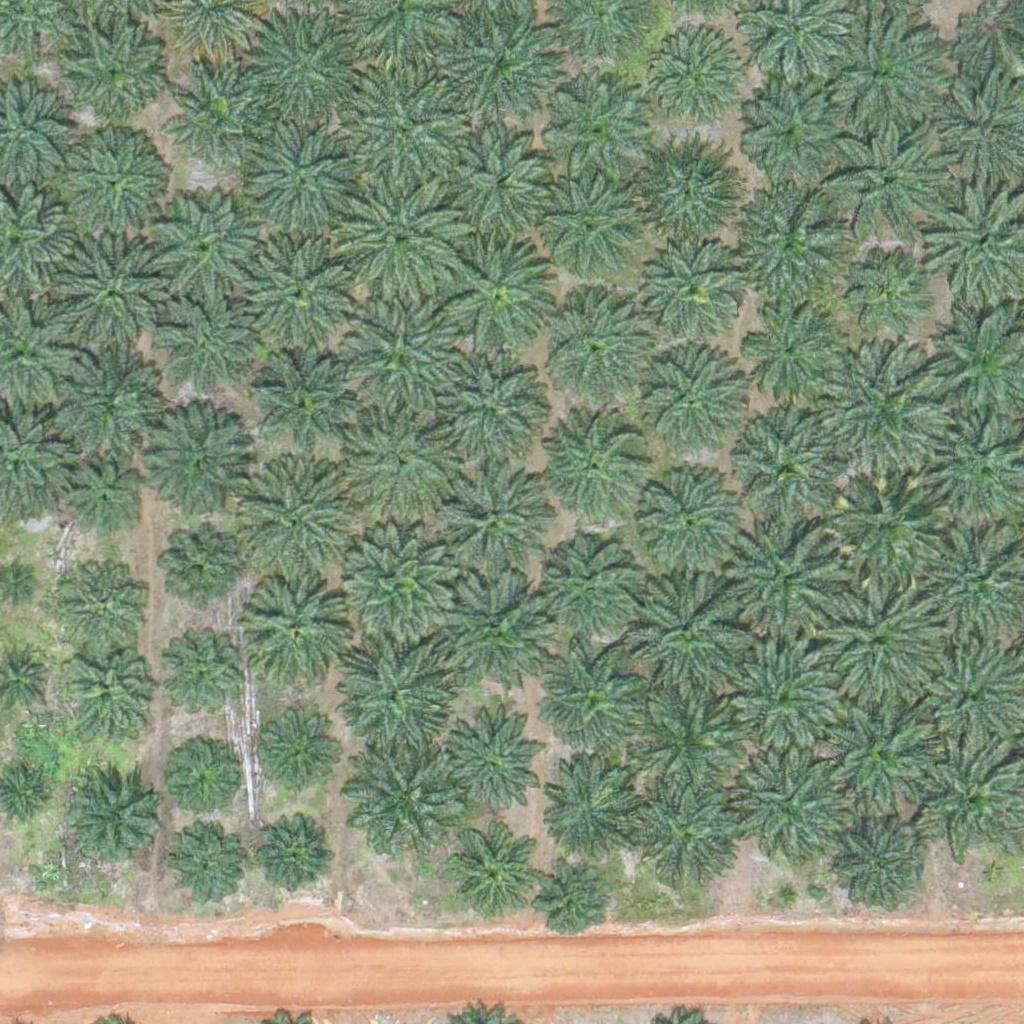Kelapa_Sawit: (822, 582, 947, 708), (821, 458, 946, 584), (821, 344, 946, 470), (724, 417, 849, 543), (815, 14, 940, 140), (825, 110, 950, 236), (343, 68, 468, 194), (337, 171, 462, 296), (907, 635, 1020, 748), (631, 784, 744, 897), (633, 681, 746, 794), (637, 569, 750, 682), (536, 290, 649, 403), (535, 635, 648, 748), (445, 240, 558, 353), (435, 345, 548, 458), (432, 463, 545, 576), (345, 737, 458, 850), (235, 569, 348, 682), (138, 409, 251, 522), (56, 237, 169, 350), (42, 338, 155, 451), (531, 167, 644, 280), (445, 126, 558, 239), (447, 7, 560, 120), (153, 189, 266, 302), (54, 14, 167, 127), (726, 181, 838, 295), (631, 132, 743, 246), (537, 68, 649, 182), (824, 706, 936, 819), (731, 522, 843, 635), (730, 637, 842, 750), (733, 752, 845, 865), (638, 453, 750, 566), (634, 340, 746, 453), (441, 567, 553, 680), (437, 713, 549, 826), (344, 294, 456, 407), (342, 403, 454, 516), (340, 522, 452, 635), (336, 637, 448, 750), (238, 459, 350, 572), (243, 9, 355, 122), (243, 120, 355, 233), (242, 232, 354, 345), (838, 807, 938, 908), (549, 409, 649, 510), (540, 533, 640, 634), (541, 755, 641, 856), (252, 356, 352, 457), (61, 768, 161, 869), (64, 134, 164, 235), (740, 298, 840, 398), (643, 239, 743, 339), (745, 79, 845, 179), (646, 30, 746, 130), (445, 825, 533, 913), (56, 559, 144, 647), (64, 653, 152, 741), (174, 71, 261, 160), (250, 706, 337, 794), (161, 303, 248, 391), (164, 529, 239, 605), (847, 248, 922, 324), (258, 822, 333, 898), (166, 644, 241, 720), (169, 826, 244, 902), (62, 462, 137, 538), (166, 749, 229, 812), (540, 866, 603, 929), (1, 563, 39, 601)
